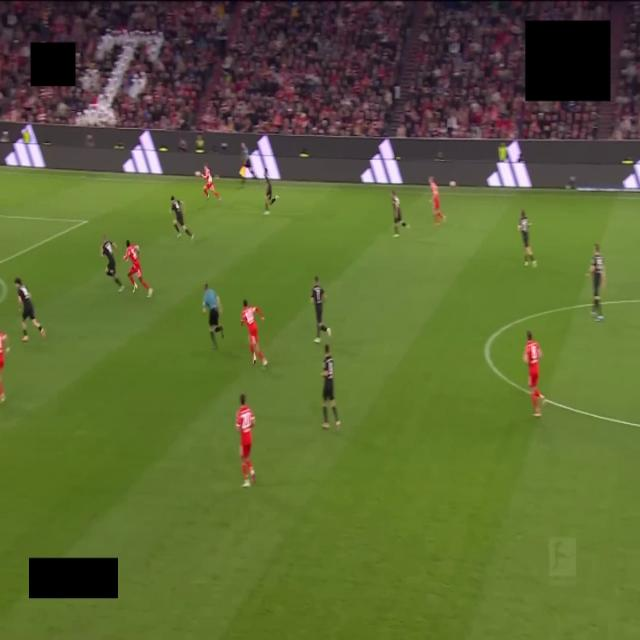ball: (195, 171, 200, 176)
player: (15, 278, 45, 342), (523, 331, 545, 416), (236, 394, 255, 487), (241, 300, 267, 367), (124, 240, 152, 297), (322, 344, 340, 429), (311, 277, 331, 343), (588, 244, 605, 321), (101, 236, 123, 292), (518, 210, 536, 267), (171, 196, 194, 240), (429, 176, 445, 225), (392, 191, 409, 237), (202, 165, 221, 201), (264, 172, 278, 215), (0, 333, 8, 403)
referee: (203, 285, 223, 348)
